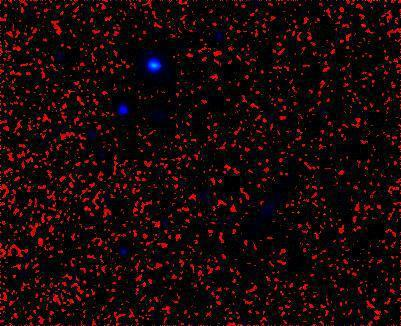star: (253, 194, 283, 224)
